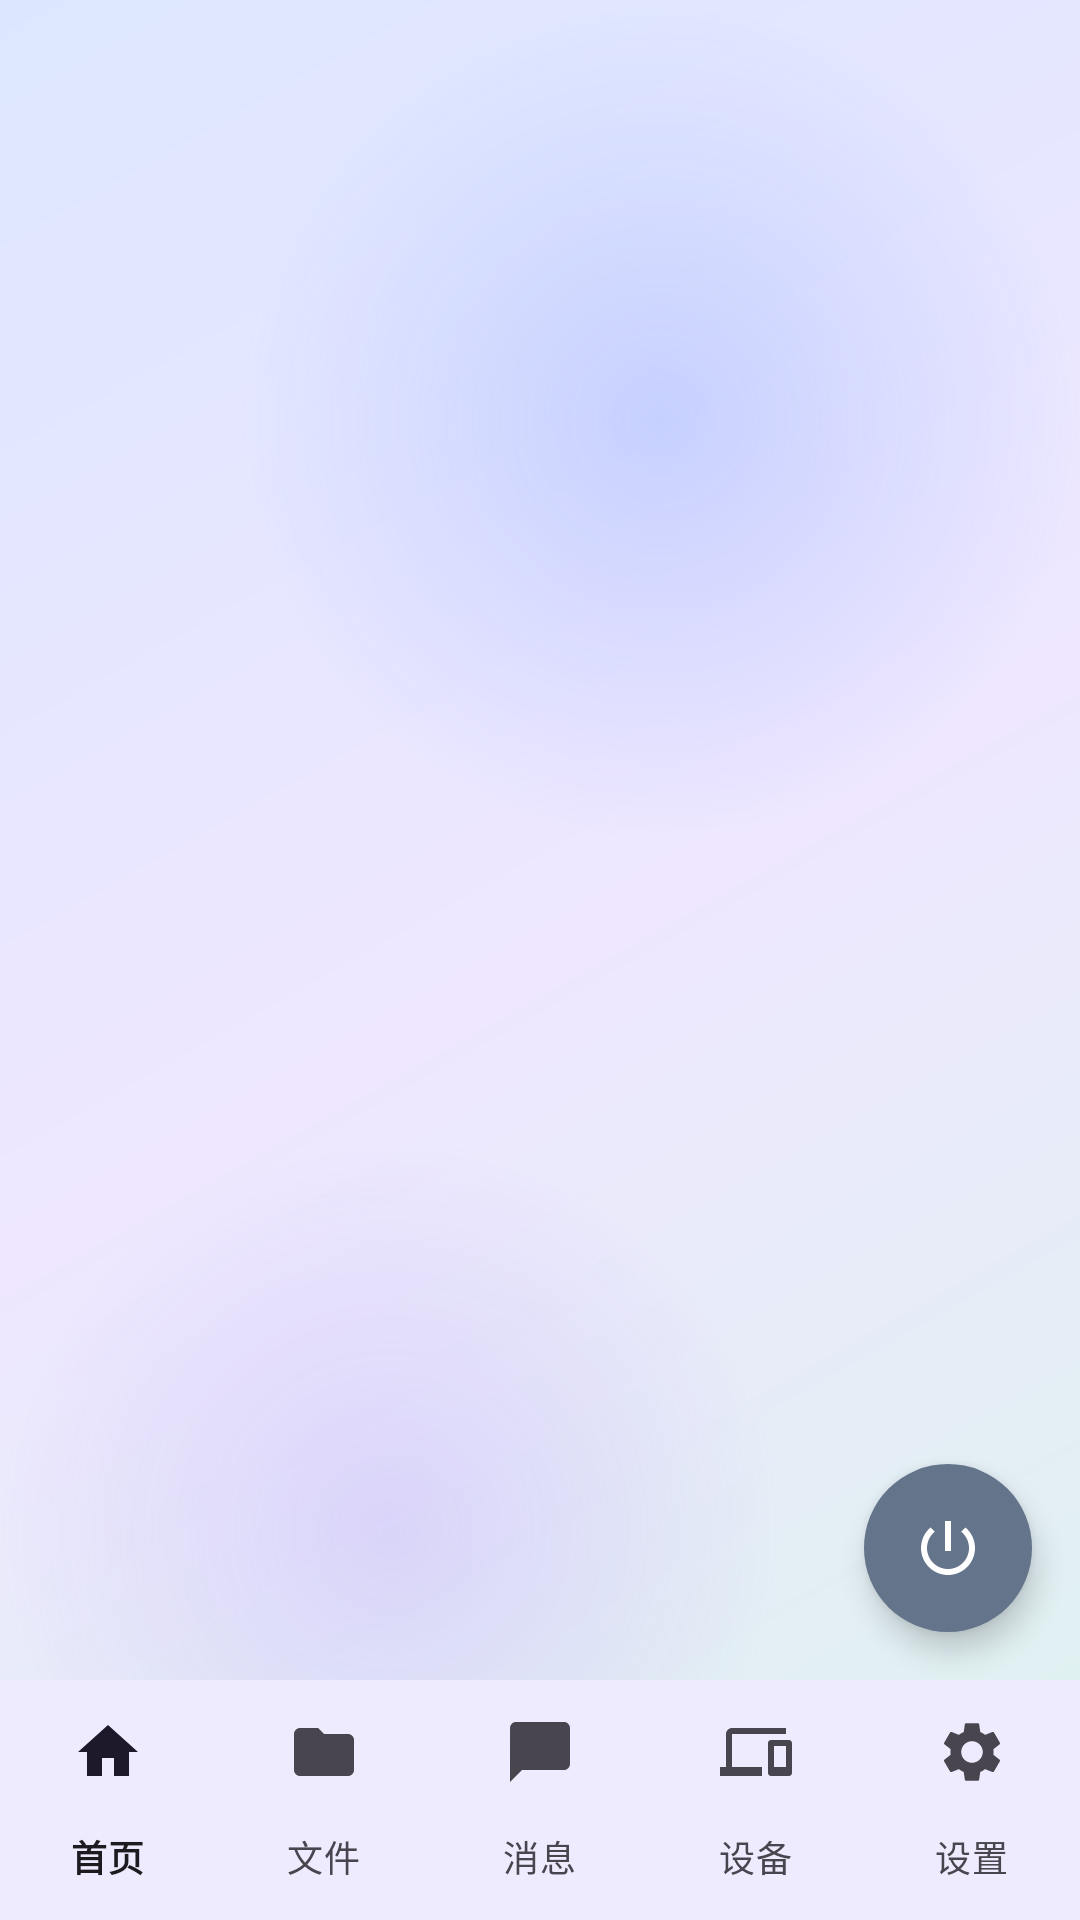

Named icons in this screenshot (1080×1920) and their bounding boxes, [x1, y1, x2, y2]:
点击开启或关闭服务，长按重启服务: [864, 1464, 1032, 1632]
